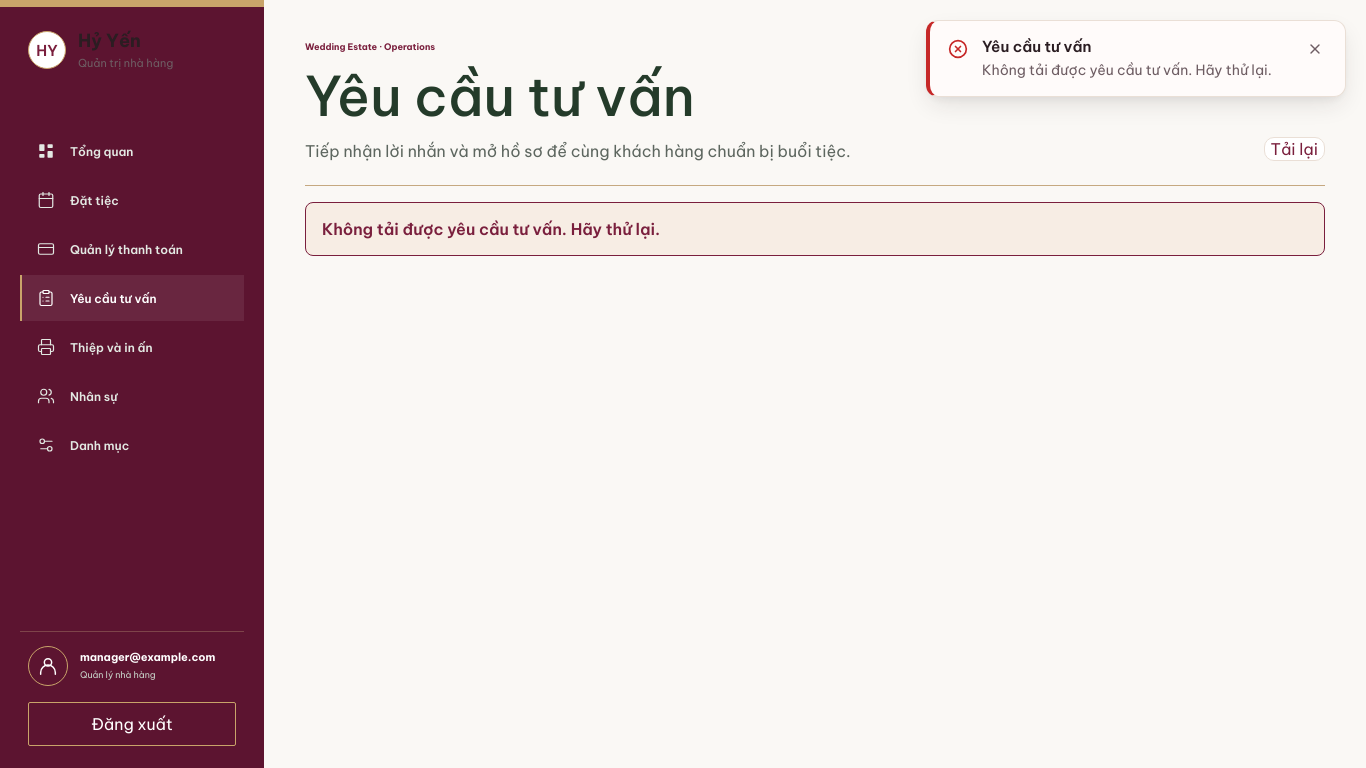
Scenario: Consultation navigation › reports a missing queue response and allows retry instead of showing an empty queue
Expected: the message shows "Không tải được yêu cầu tư vấn", x1=982 y1=61 x2=1272 y2=79
Expected: the text "Chưa có yêu cầu tư vấn" is not shown
Step 1. Click the button "Tải lại" → click(1294, 149), box x1=1264 y1=137 x2=1325 y2=161
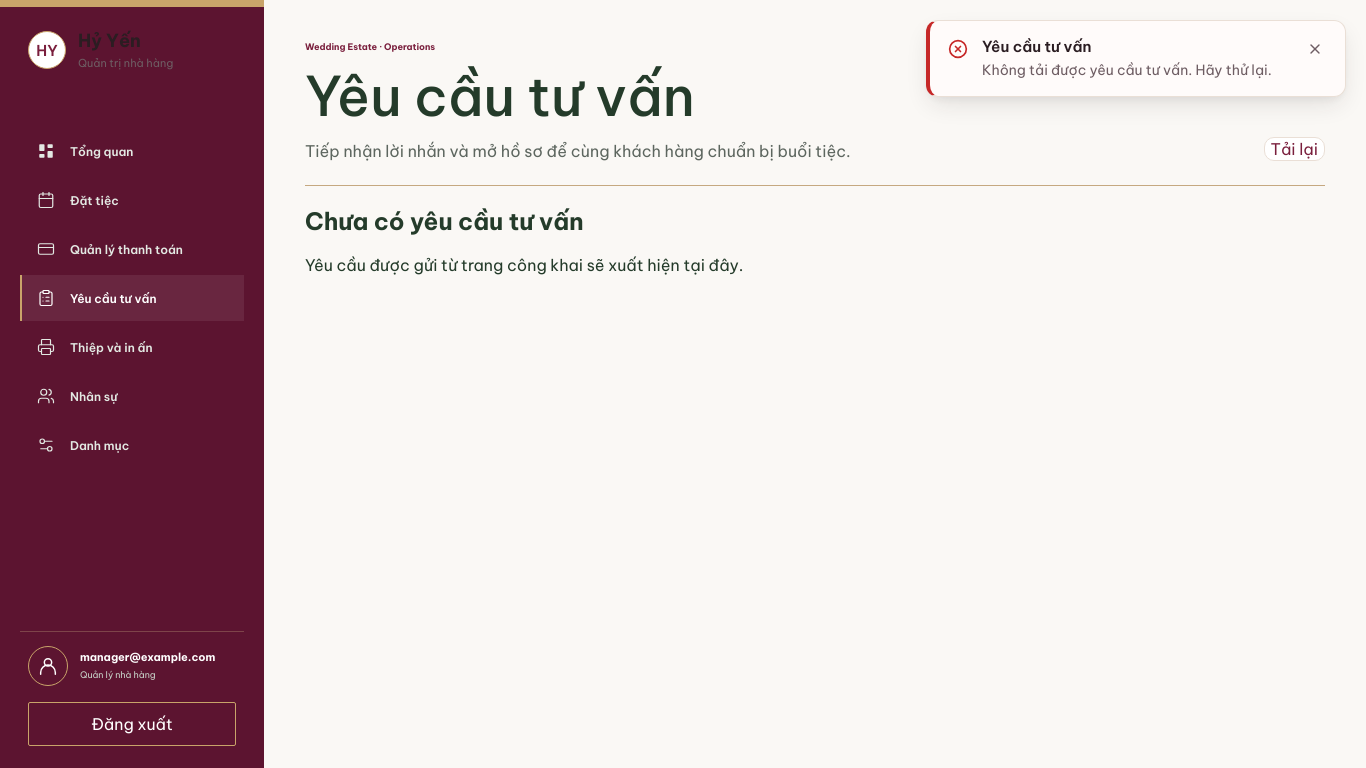
Expected: the heading "Chưa có yêu cầu tư vấn" is shown, x1=305 y1=206 x2=584 y2=236
